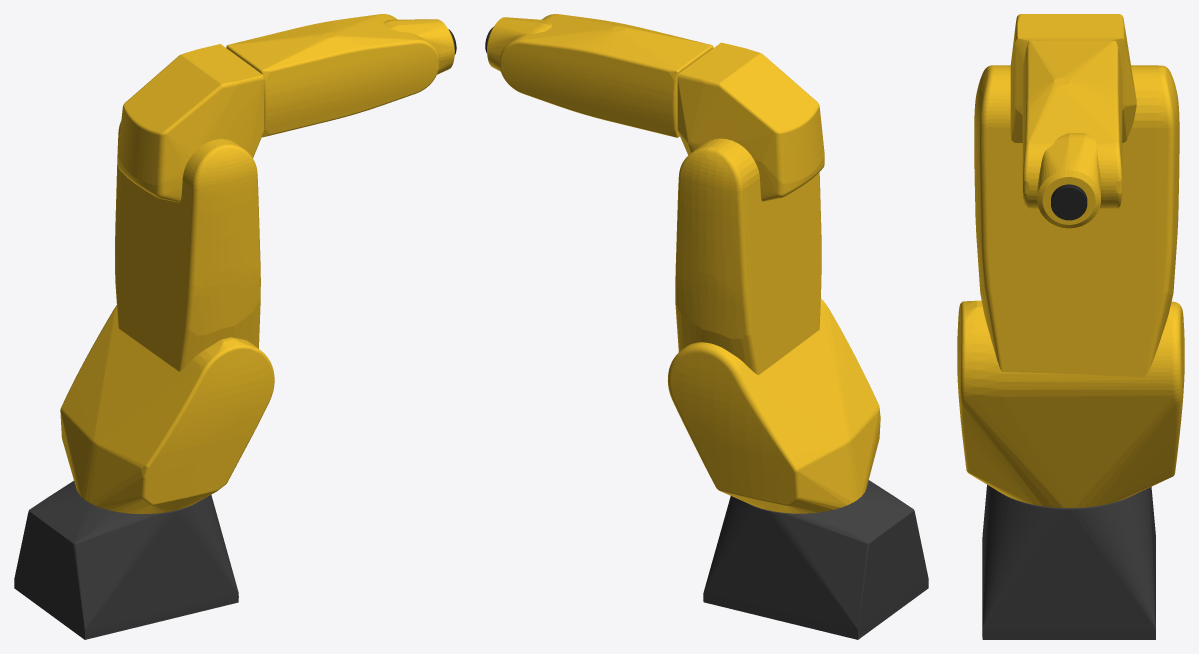
File: fanuc_lrmate200ic.dae
3 views of the same model, side by side, from view 1: azimuth 30°, elevation 25°; view 2: azimuth 150°, elevation 25°; view 3: azimuth 270°, elevation 25° (orthographic). The views are drawn at different scales.
Parts seen in each view (by area): view 1: link_1, link_2, base_link, link_4, link_3, link_5; view 2: link_1, link_2, base_link, link_4, link_3, link_5; view 3: link_2, link_1, base_link, link_4, link_3, link_5, link_6.
Part boxes in pixels (left/top/right/bottom): link_1: left=60, top=305, right=274, bottom=514; link_2: left=115, top=121, right=260, bottom=371; base_link: left=14, top=481, right=238, bottom=639; link_4: left=226, top=14, right=439, bottom=137; link_3: left=117, top=44, right=263, bottom=202; link_5: left=383, top=19, right=454, bottom=74; link_1: left=667, top=298, right=880, bottom=513; link_2: left=675, top=138, right=821, bottom=374; base_link: left=703, top=480, right=928, bottom=639; link_4: left=500, top=14, right=713, bottom=137; link_3: left=677, top=42, right=824, bottom=201; link_5: left=487, top=17, right=552, bottom=71; link_2: left=974, top=65, right=1179, bottom=377; link_1: left=957, top=300, right=1184, bottom=507; base_link: left=982, top=485, right=1155, bottom=639; link_4: left=1022, top=40, right=1122, bottom=208; link_3: left=1010, top=14, right=1136, bottom=142; link_5: left=1037, top=133, right=1100, bottom=228; link_6: left=1051, top=184, right=1087, bottom=220.
Bounding box in the file's own units: 0.622 × 0.2493 × 0.7645.
